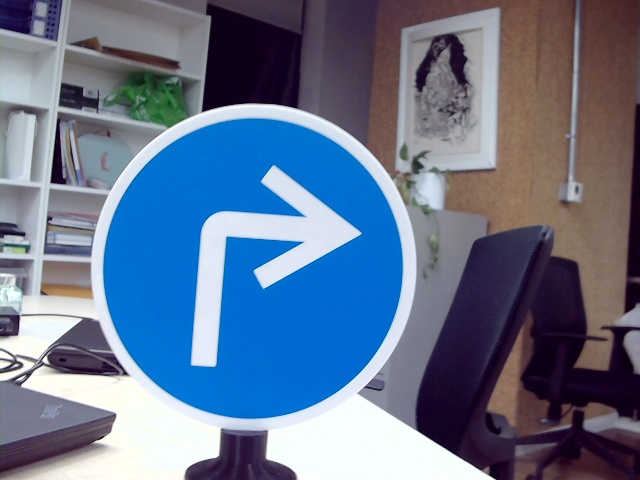turn_right: (175, 160, 365, 370)
